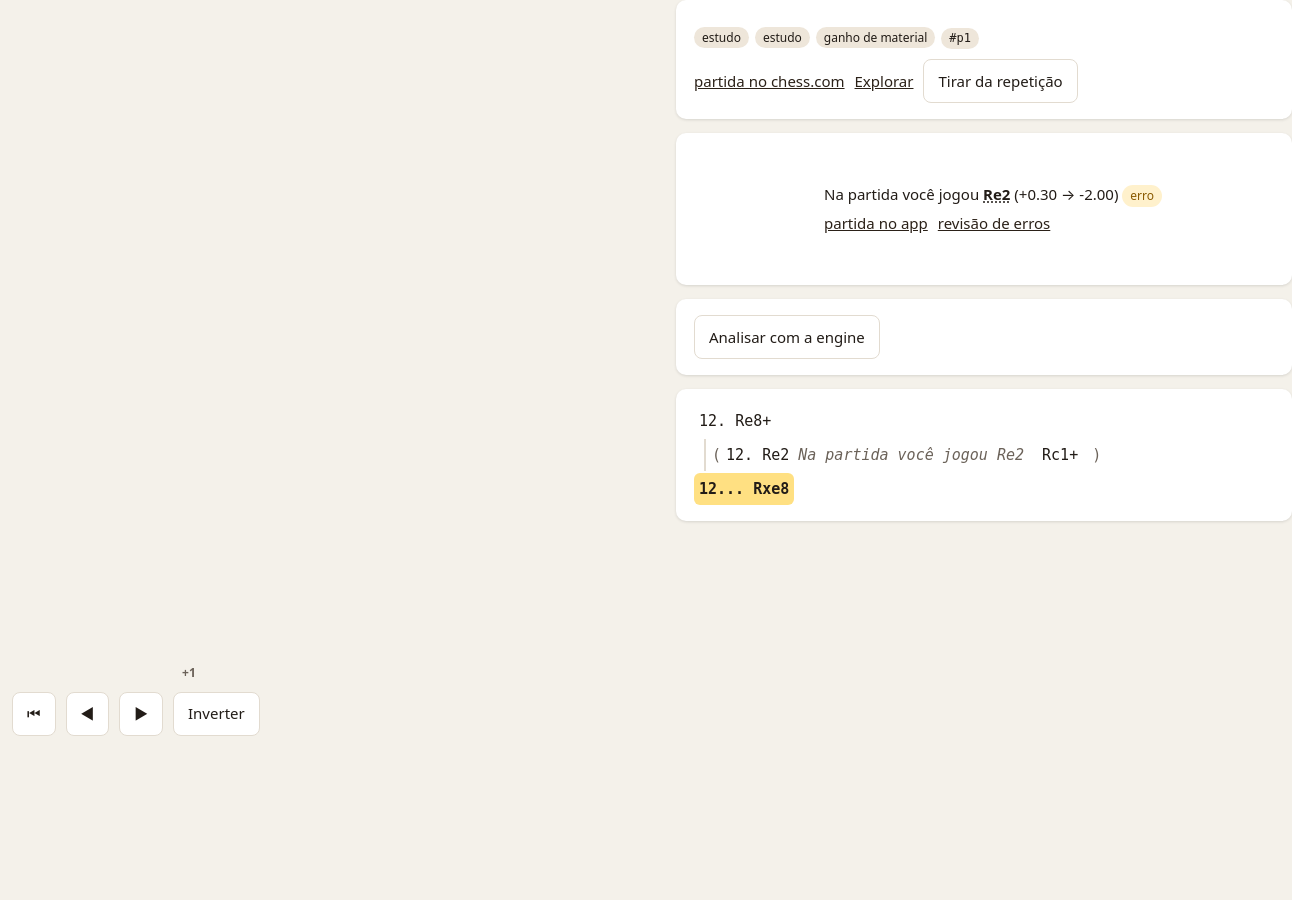
Scenario: no 'evitar' o lance da partida entra como variação com a refutação
The width and height of the screenshot is (1292, 900).
Expected: the button "Rc1+" is shown, [1037,439,1083,471]
Click the button "12. Re2" at [758, 455], box [721,439,794,471]
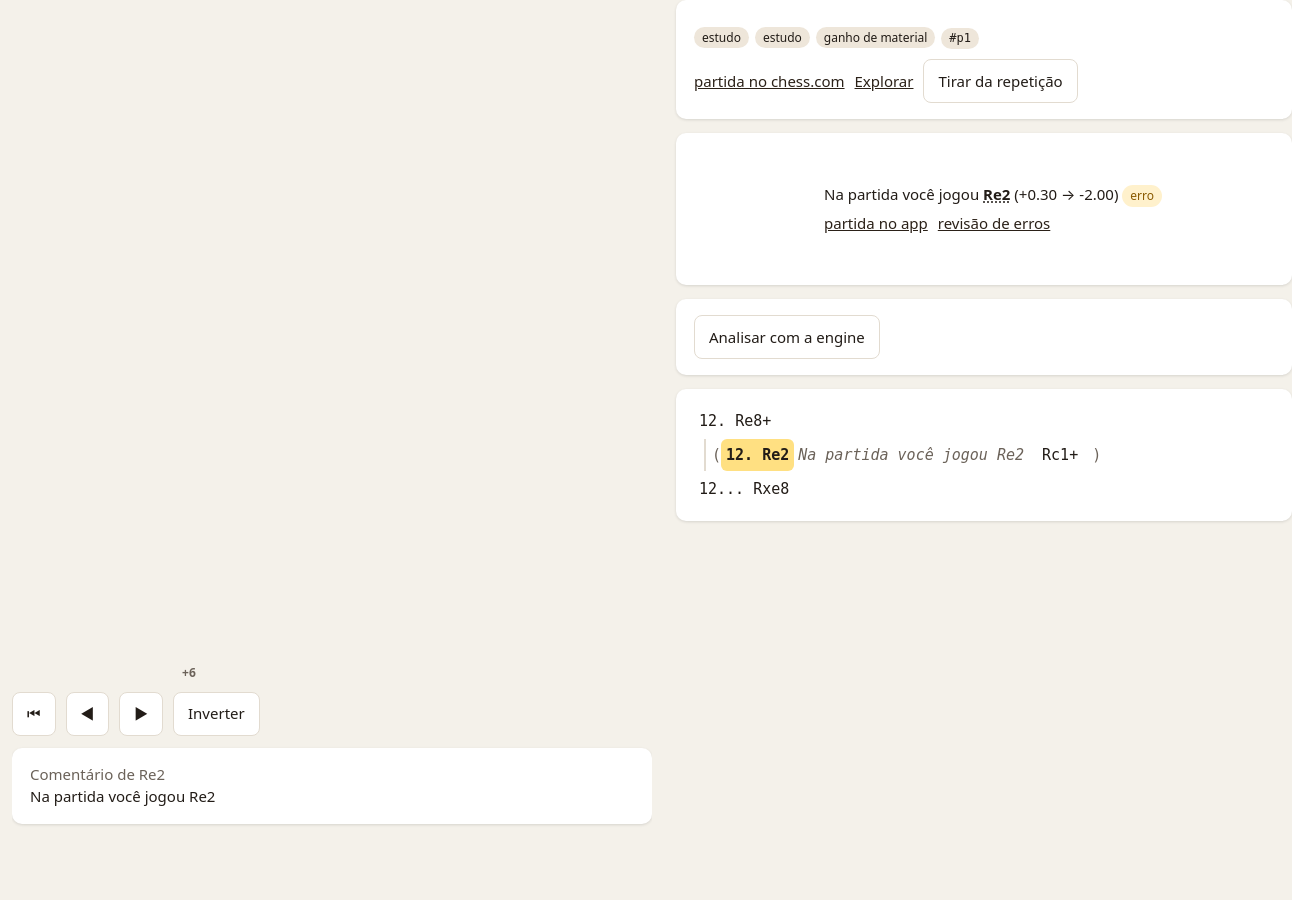
Expected: the text "Comentário de Re2" is shown, [30,764,165,784]
Expected: the text "Na partida você jogou Re2" below "Comentário de Re2" is shown, [30,786,215,806]
